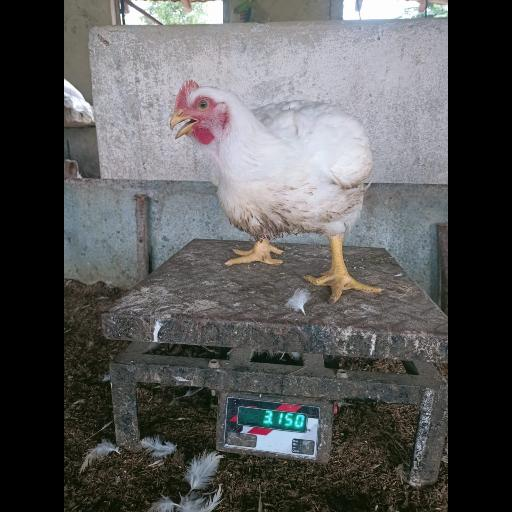chick: (166, 77, 381, 305)
